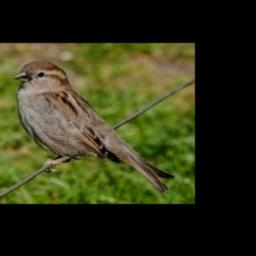Sparrow: (13, 61, 174, 192)
